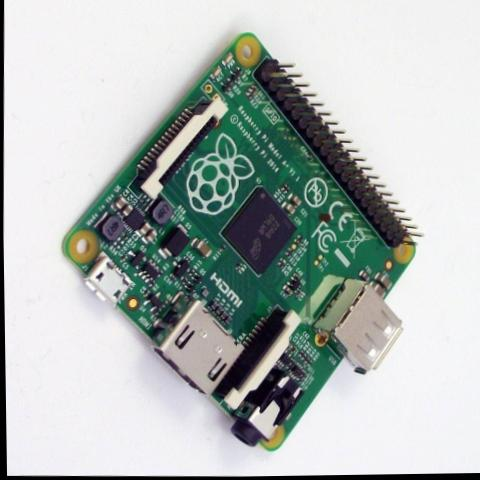Raspberry-Pi-1-Model-A-: (40, 20, 440, 473)
